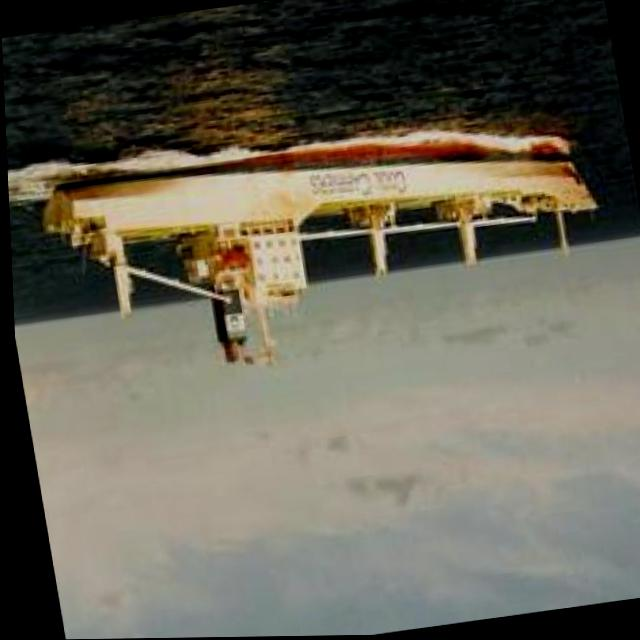ship2: (37, 125, 599, 365)
